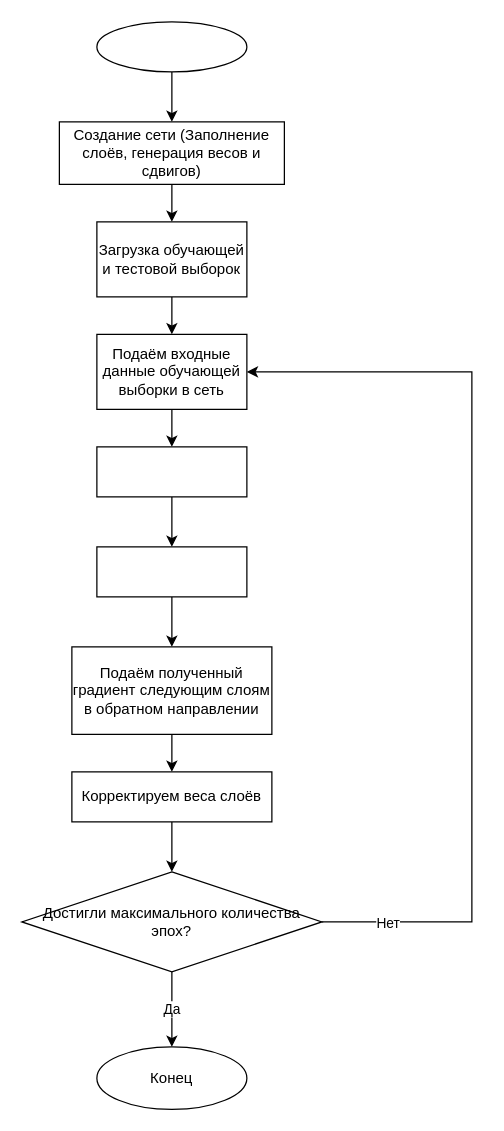
The diagram is 504 pixels wide and 1131 high, and some of its shapes have lost their labels. The centre of each missing label's shape, as x and y in pixels:
"Вычисляем градиент от ошибки" goes at (171,571).
"Вычисляем ошибку" goes at (171,471).
"Начало" goes at (171,46).
